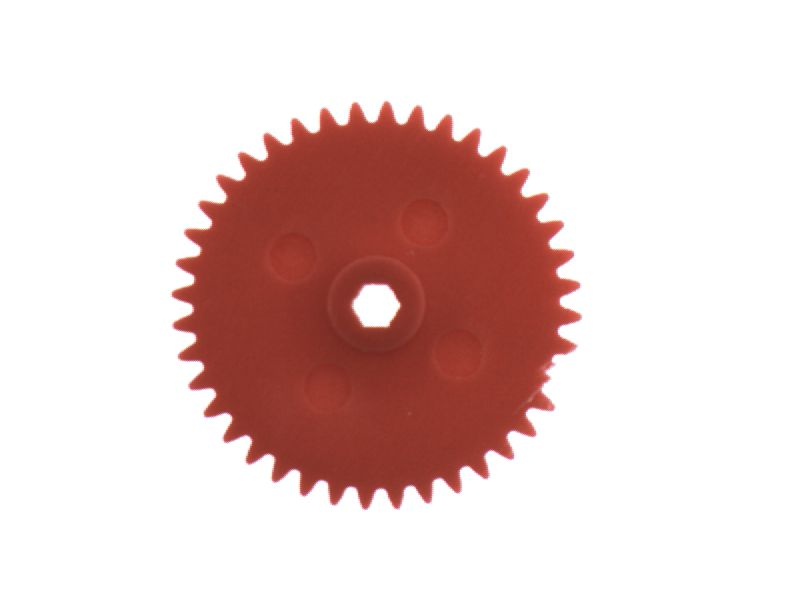defect_lack: (529, 345, 601, 410)
